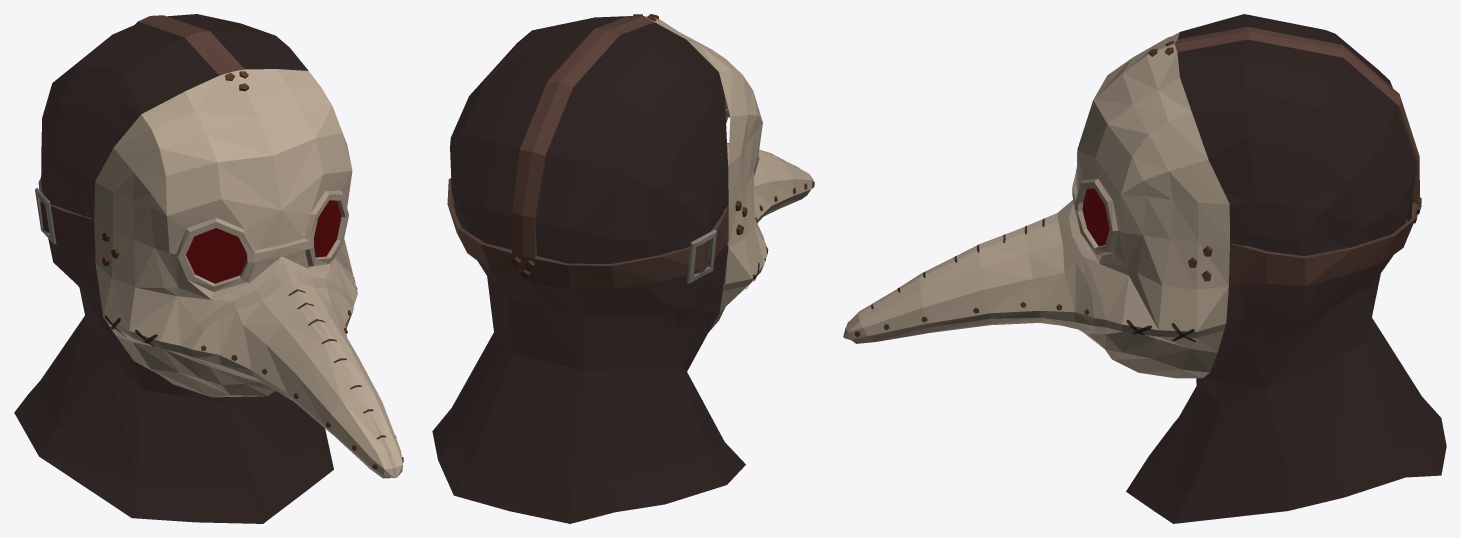
File: plagueDoctorHatSimpleFemale.glb
The picture shows the model from 3 angles, left to right: view 1: azimuth 30°, elevation 25°; view 2: azimuth 150°, elevation 25°; view 3: azimuth 270°, elevation 25°; orthographic projection.
Visible parts, largest first — view 1: plagueDoctorHatSimple; view 2: plagueDoctorHatSimple; view 3: plagueDoctorHatSimple.
Part boxes in pixels (box(x1,y1,x2,y2)): plagueDoctorHatSimple: box(14, 14, 403, 523); plagueDoctorHatSimple: box(432, 14, 814, 523); plagueDoctorHatSimple: box(843, 14, 1446, 523).
Bounding box in the file's own units: 0.2559 × 0.3954 × 0.473.
